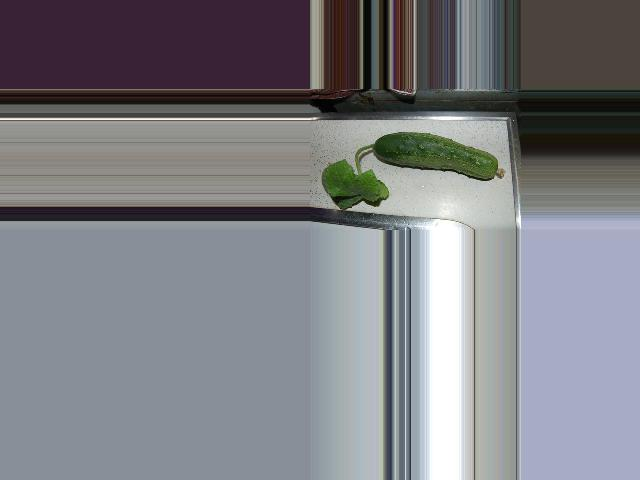cucumber: (371, 132, 505, 180)
